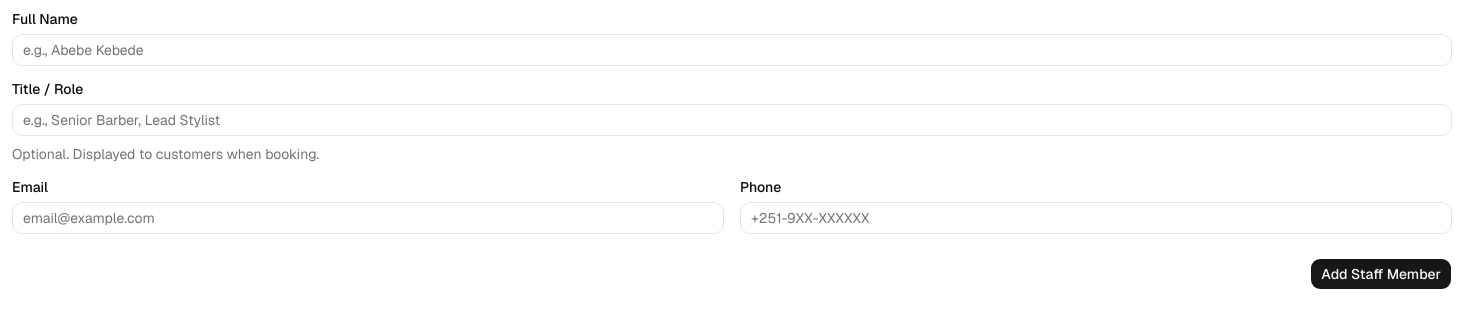
Test case: StaffForm — Create mode › shows validation error when name is empty on submit
This screenshot has width=1464, height=334.
What coordinates should you click on to do the following:
click the button "Add Staff Member"
I would click on:
 (1381, 274)
Its box is [1310,258,1452,290].
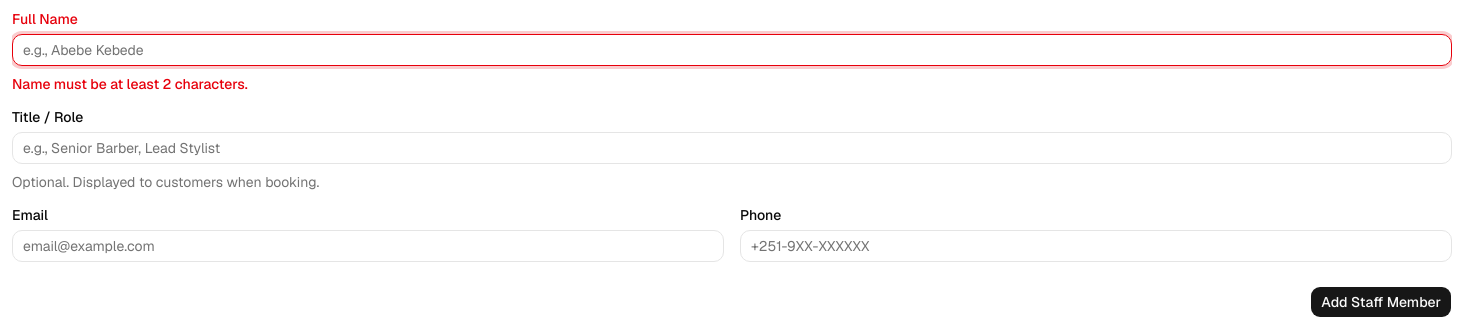
Expected: the text "Name must be at least 2 characters." is shown, [12,75,248,93]
